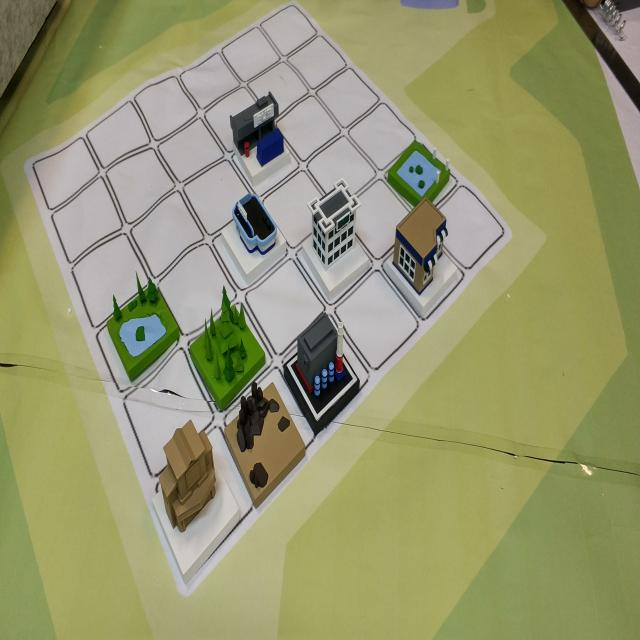bus_stop: (226, 82, 303, 192)
factory: (281, 299, 368, 434)
fish_pool: (387, 124, 456, 214)
forest: (185, 274, 271, 412)
gogo_shop: (218, 180, 292, 290)
research_build: (300, 172, 373, 302)
restaurant: (384, 195, 464, 319)
silicate_rock: (219, 368, 307, 518)
volunteer_center: (146, 416, 239, 574)
wet_land: (101, 260, 183, 380)
